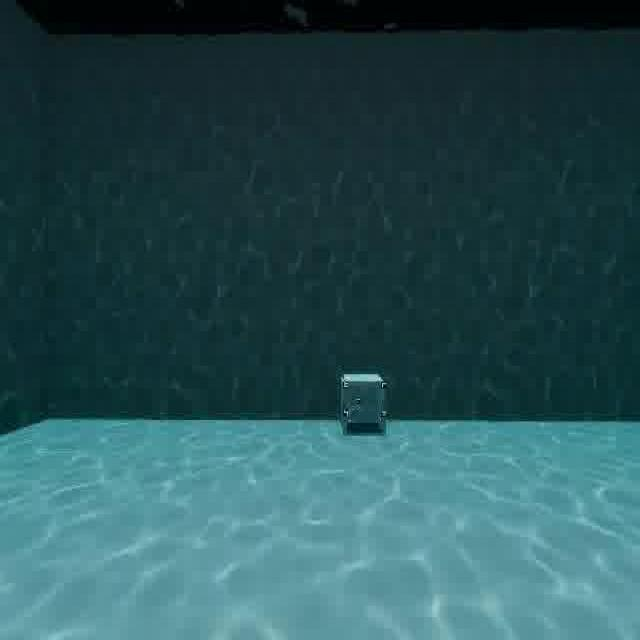Docking Station: (336, 362, 393, 442)
